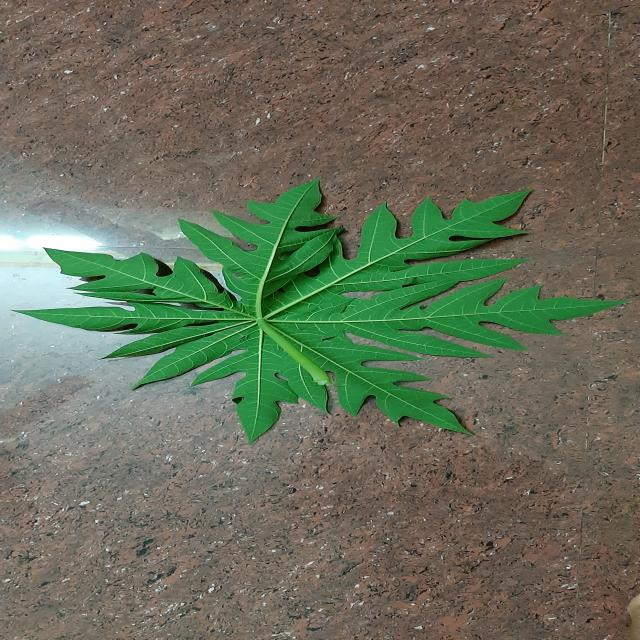papaya: (19, 181, 623, 441)
